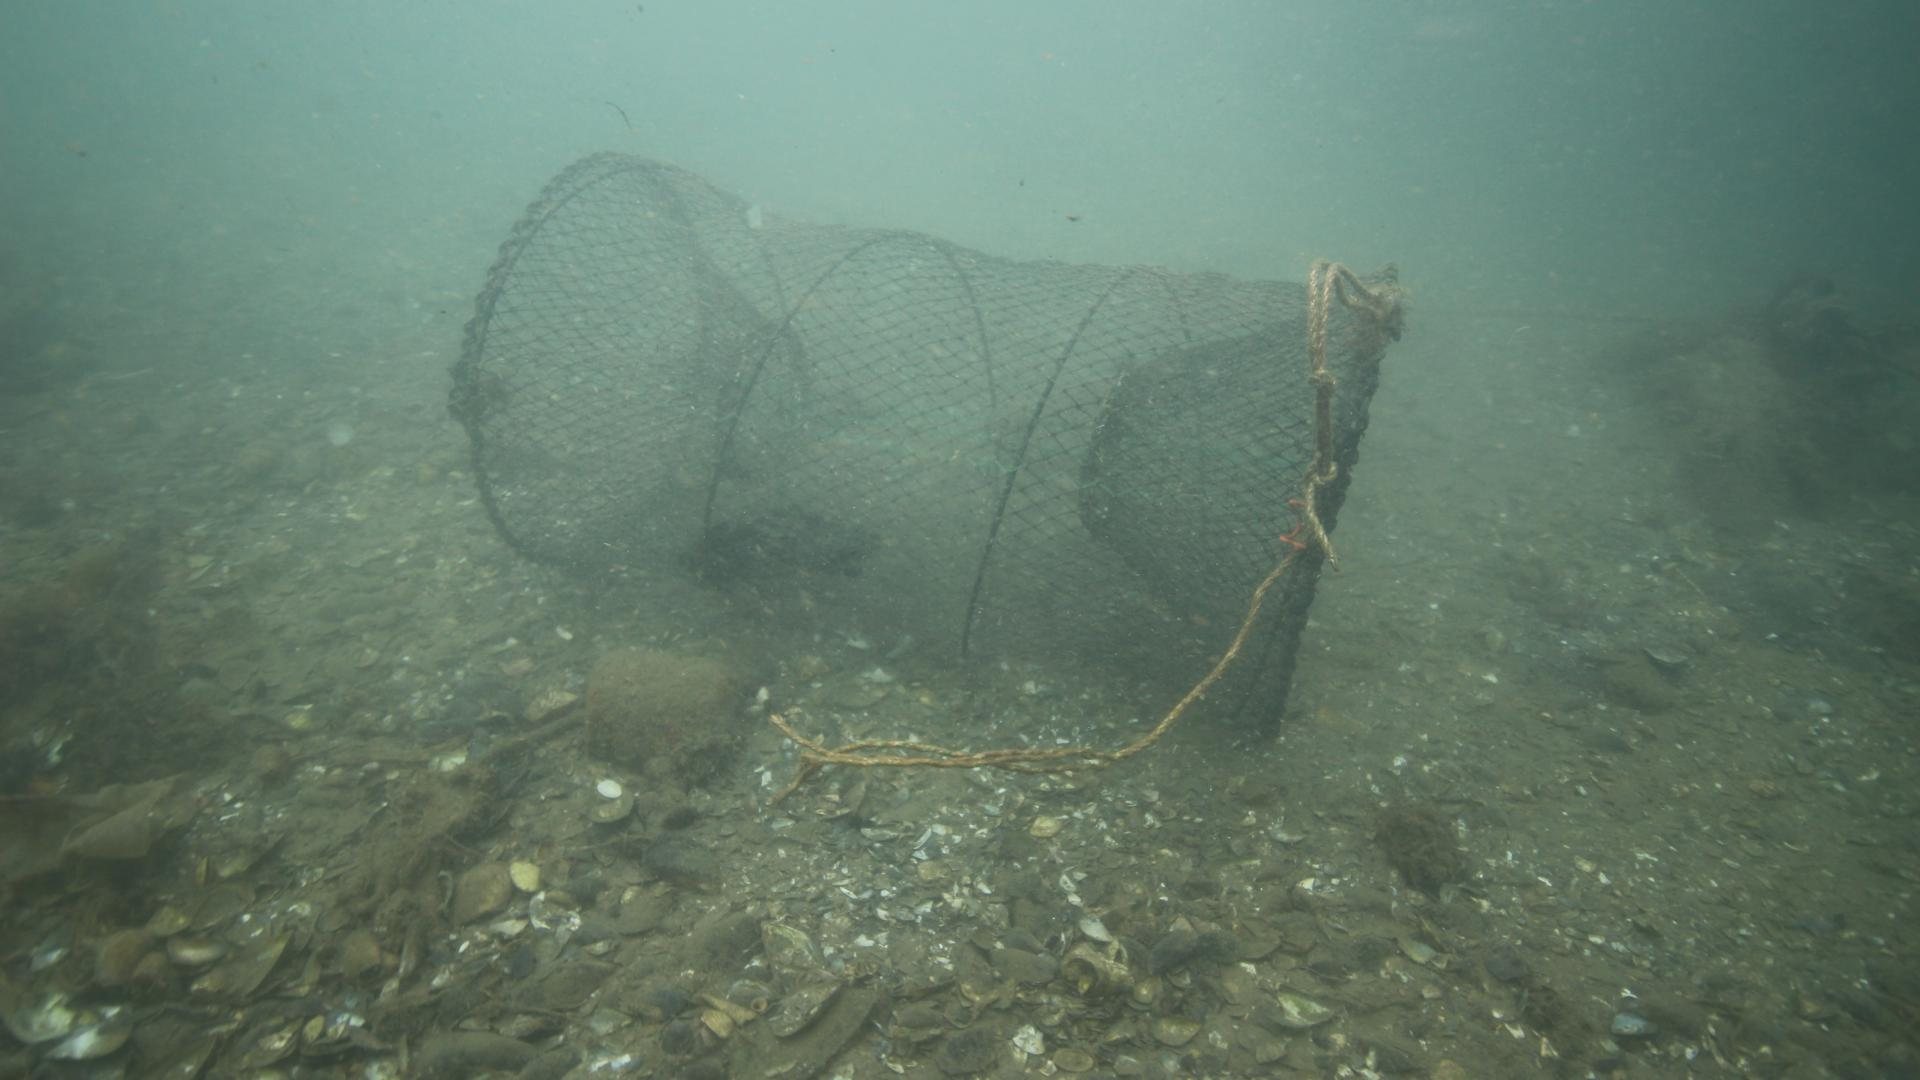spring fish trap: (458, 146, 1396, 753)
